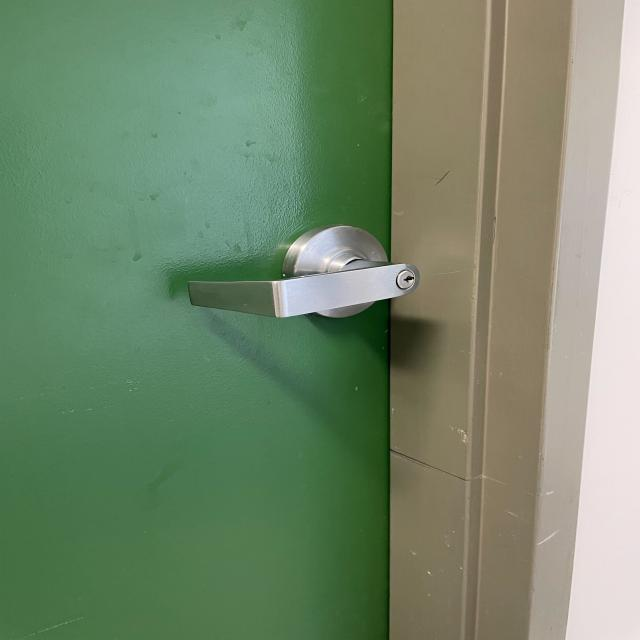door-handle: (188, 225, 418, 318)
